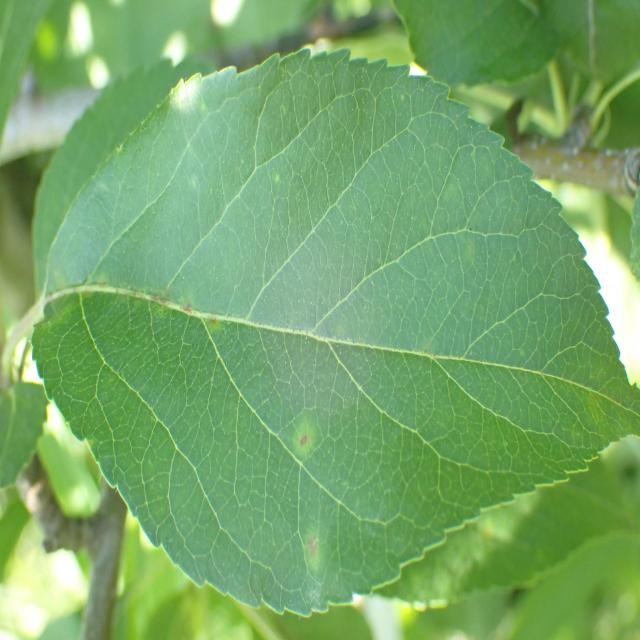scab: (49, 214, 620, 616)
